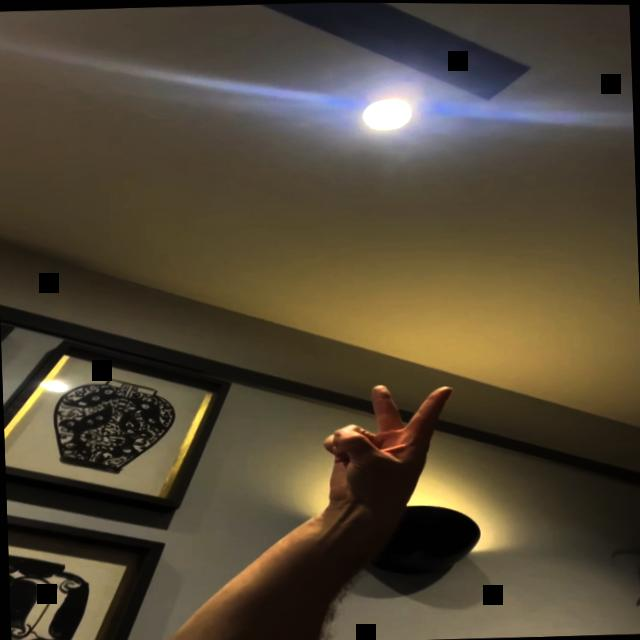Scissors: (306, 379, 456, 527)
